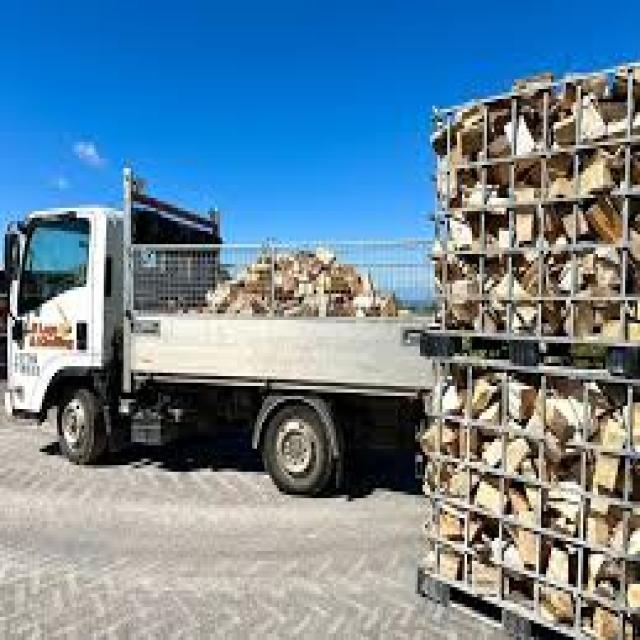uncovered: (9, 182, 440, 493)
